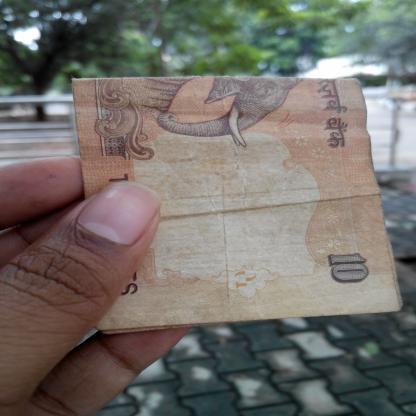Old10Back: (70, 77, 405, 336)
